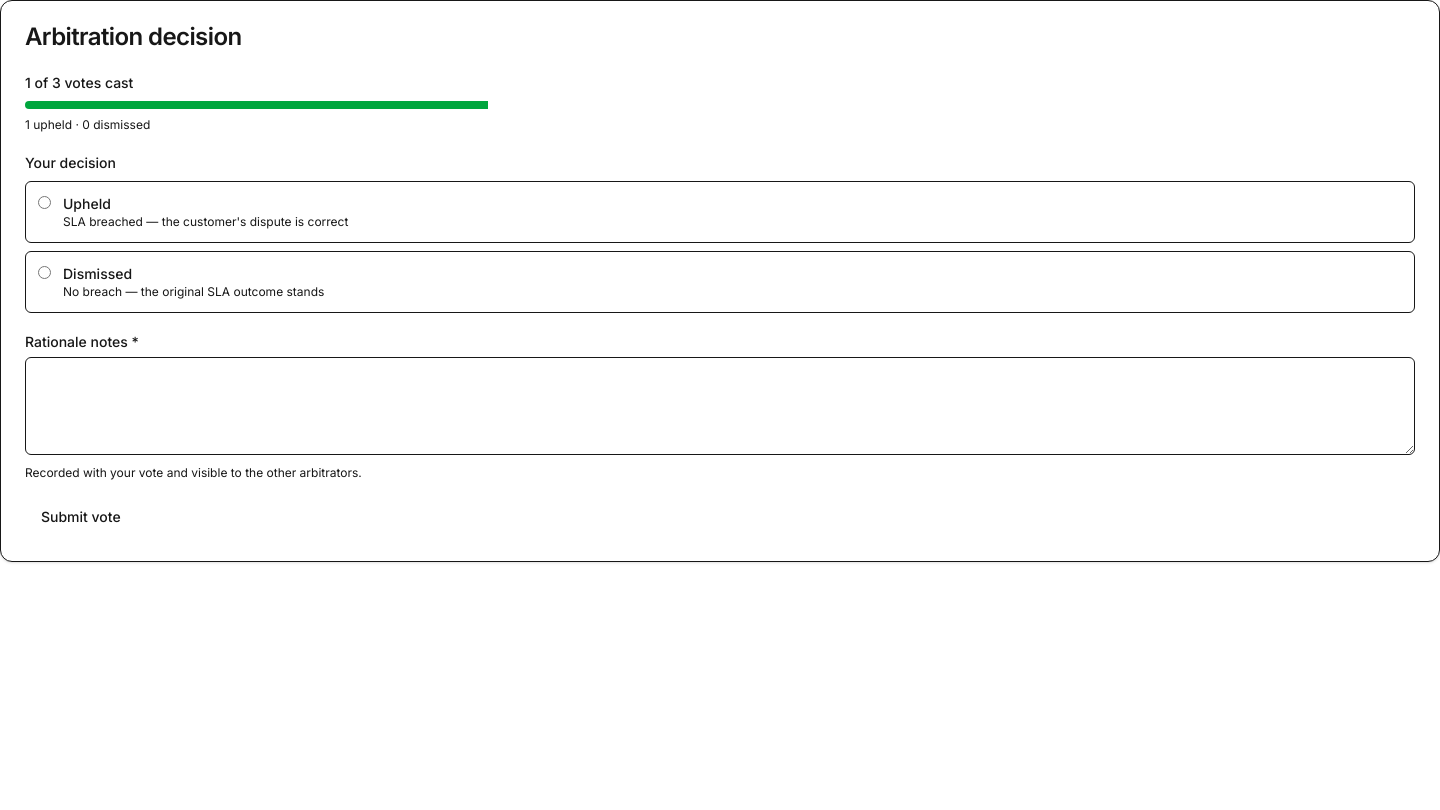
Test: ArbitratorVotePanel › validation › does not submit without a decision
Type "Monitoring confirms the provider's edge was unreachable for 41 minutes." into the text box labelled "Rationale notes *". click: (720, 406)
box: left=25, top=357, right=1415, bottom=455
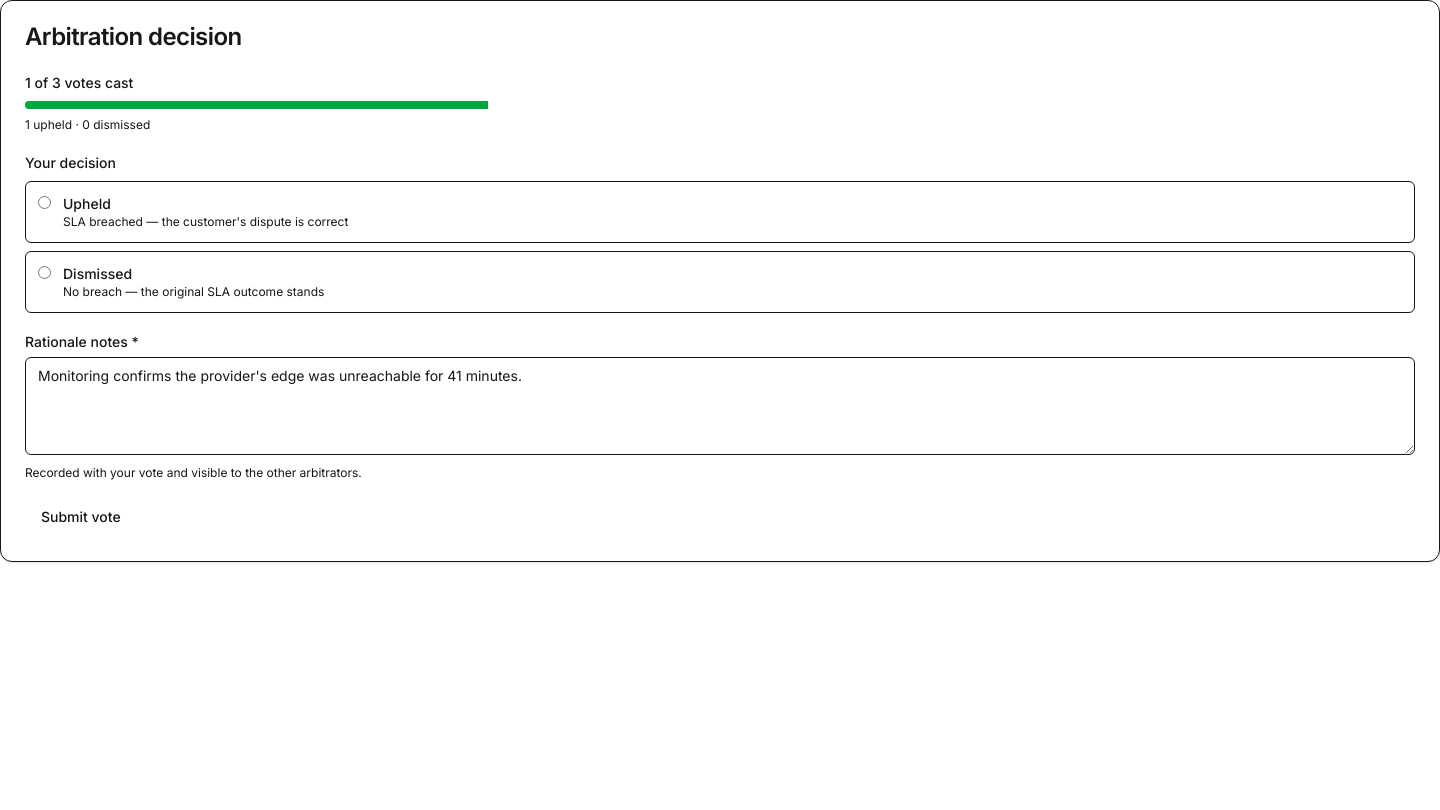
Click the button "Submit vote". click: (81, 517)
box: left=25, top=497, right=137, bottom=537
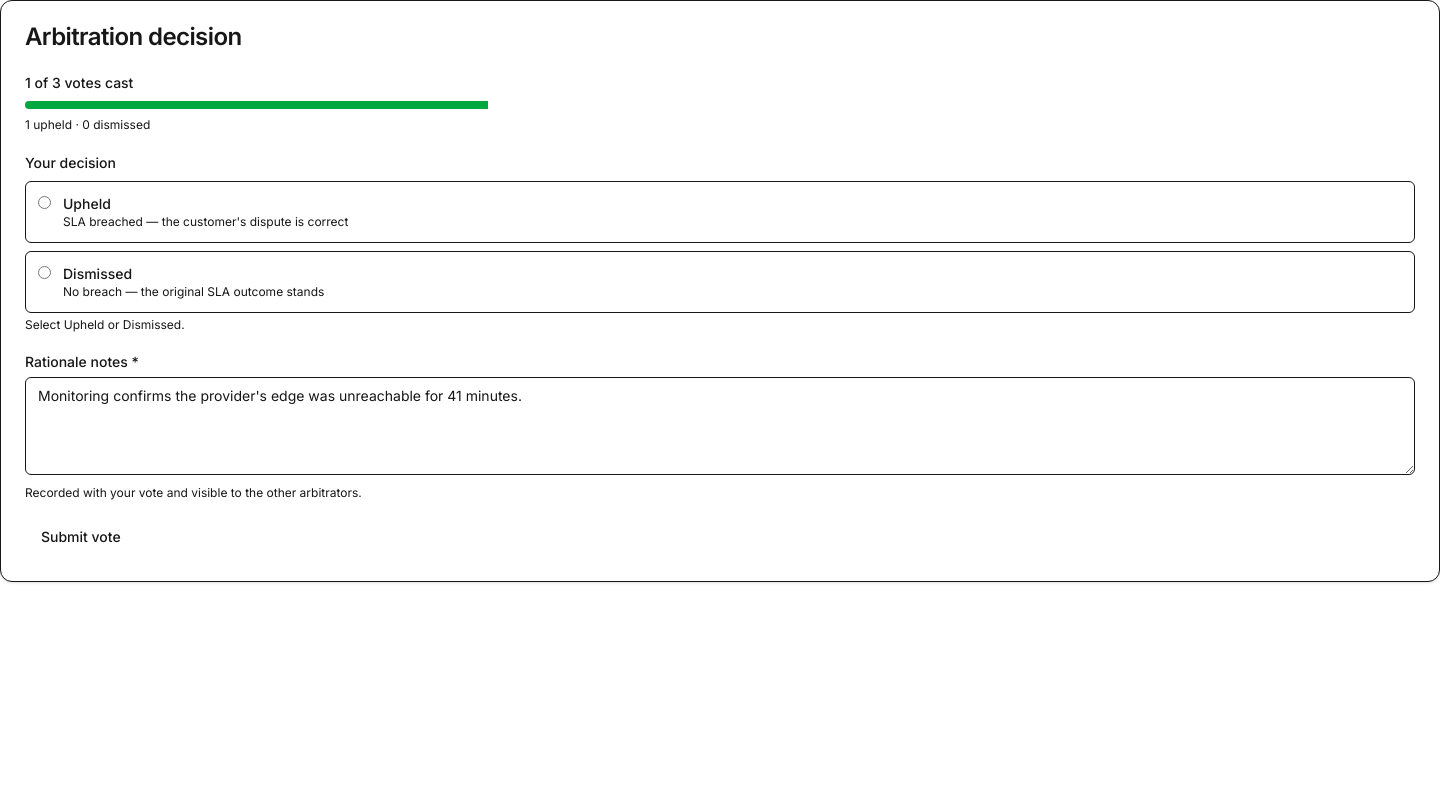
Expected: the text "Select Upheld or Dismissed." is shown, left=25, top=317, right=185, bottom=332
